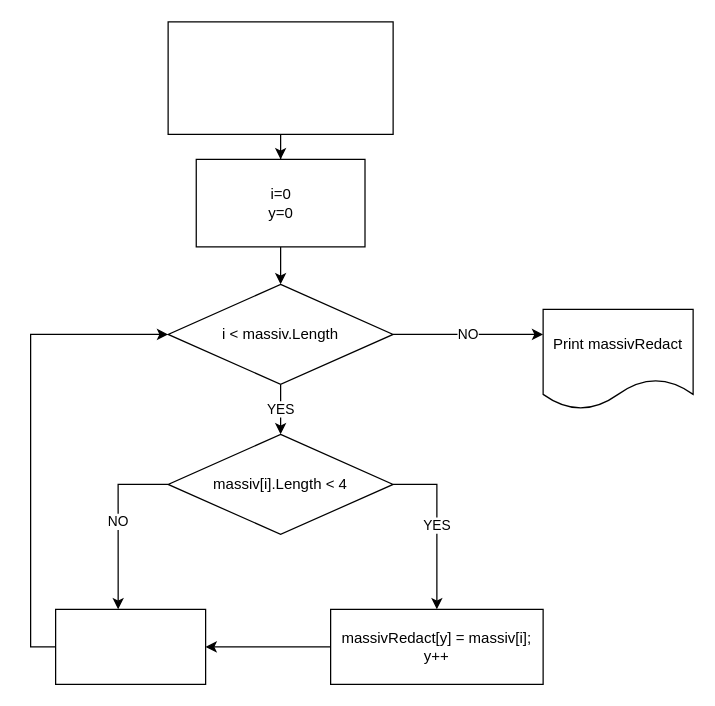
This 715x706 diagram has some shape labels left out. The box of each missing label's shape, as (x1, y1, x2, y2) in pixels:
i++: (54, 608, 206, 684)
Задаем изначальный массив massiv ={...} и массив massivRedact massivRedact: (167, 21, 393, 134)
